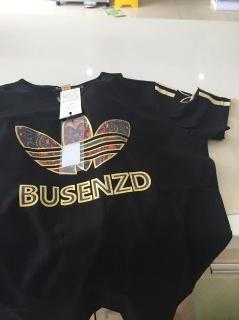short sleeve top: (0, 72, 233, 319)
